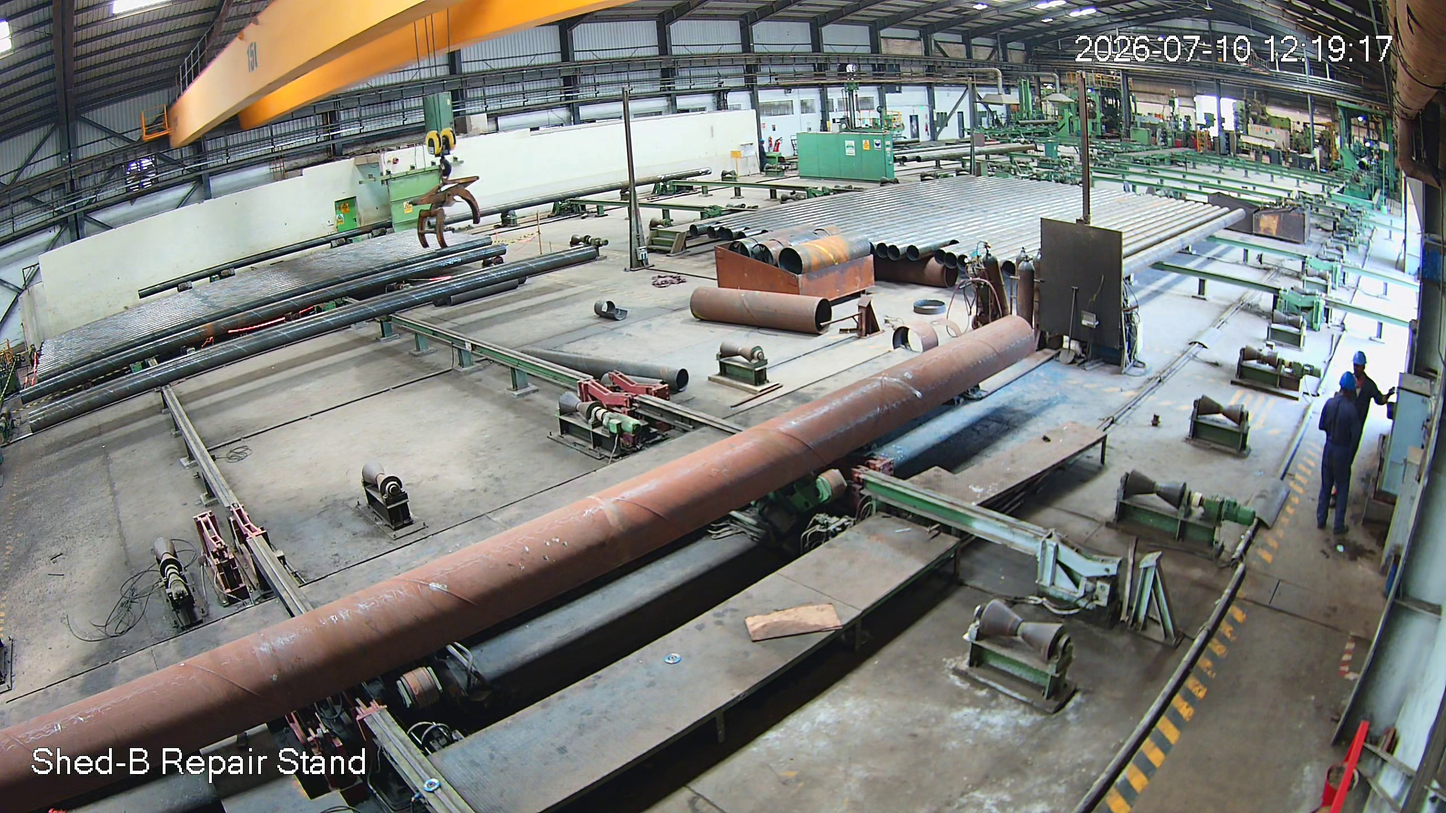Helmet: (1333, 368, 1364, 402)
Person: (1313, 370, 1359, 537)
